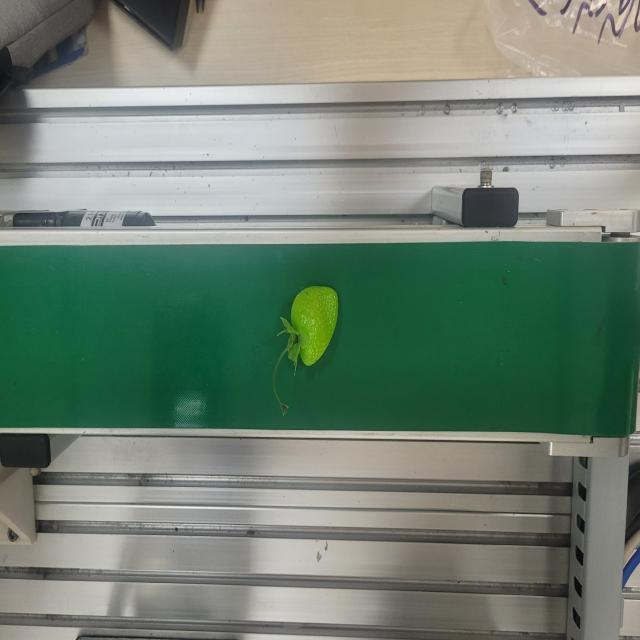Small Unripe Strawberry: (276, 280, 341, 372)
